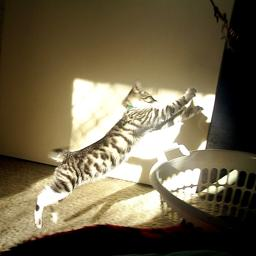cat: (93, 128, 256, 256)
